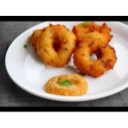vada: (75, 38, 116, 76), (40, 23, 76, 66), (73, 21, 113, 43)
